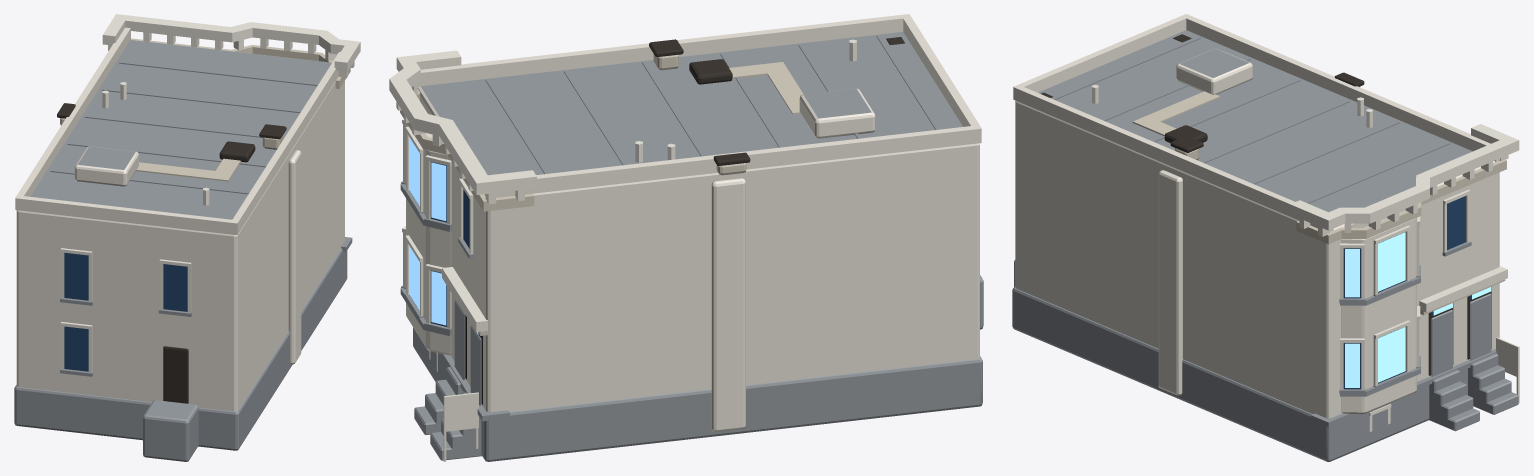
File: 248-ritch.optimized.glb
3 views of the same model, side by side, from view 1: azimuth 30°, elevation 25°; view 2: azimuth 150°, elevation 25°; view 3: azimuth 270°, elevation 25° (orthographic). The views are drawn at different scales.
Parts seen in each view (by area): view 1: grp_Toy_cream_Toy_steel, grp_Toy_steel, grp_Toy_cream, grp_Toy_trim, grp_Toy_glass, grp_Toy_ink, grp_Toy_stone; view 2: grp_Toy_cream_Toy_steel, grp_Toy_steel, grp_Toy_cream, grp_Toy_trim, grp_Toy_stone, grp_Toy_glassl_Glow, grp_Toy_ink, grp_Toy_glass; view 3: grp_Toy_cream_Toy_steel, grp_Toy_steel, grp_Toy_cream, grp_Toy_trim, grp_Toy_glassl_Glow, grp_Toy_stone, grp_Toy_ink, grp_Toy_glass.
Part boxes in pixels (bbox=[...]): grp_Toy_cream_Toy_steel: bbox=[16, 40, 344, 411]; grp_Toy_steel: bbox=[14, 61, 352, 461]; grp_Toy_cream: bbox=[15, 27, 340, 364]; grp_Toy_trim: bbox=[60, 14, 360, 372]; grp_Toy_glass: bbox=[64, 252, 187, 371]; grp_Toy_ink: bbox=[57, 103, 286, 403]; grp_Toy_stone: bbox=[60, 38, 350, 181]; grp_Toy_cream_Toy_steel: bbox=[417, 32, 979, 412]; grp_Toy_steel: bbox=[400, 35, 983, 461]; grp_Toy_cream: bbox=[406, 14, 981, 432]; grp_Toy_trim: bbox=[389, 39, 856, 461]; grp_Toy_stone: bbox=[400, 54, 803, 335]; grp_Toy_glassl_Glow: bbox=[409, 137, 478, 334]; grp_Toy_ink: bbox=[465, 37, 904, 404]; grp_Toy_glass: bbox=[416, 161, 480, 336]; grp_Toy_cream_Toy_steel: bbox=[1015, 30, 1499, 418]; grp_Toy_steel: bbox=[1012, 37, 1518, 461]; grp_Toy_cream: bbox=[1013, 14, 1500, 414]; grp_Toy_trim: bbox=[1092, 85, 1519, 432]; grp_Toy_glassl_Glow: bbox=[1345, 232, 1491, 387]; grp_Toy_stone: bbox=[1132, 86, 1506, 315]; grp_Toy_ink: bbox=[1041, 34, 1491, 375]; grp_Toy_glass: bbox=[1343, 196, 1471, 389].
Bounding box in the file's own units: 15.82 × 8.6 × 15.82.
